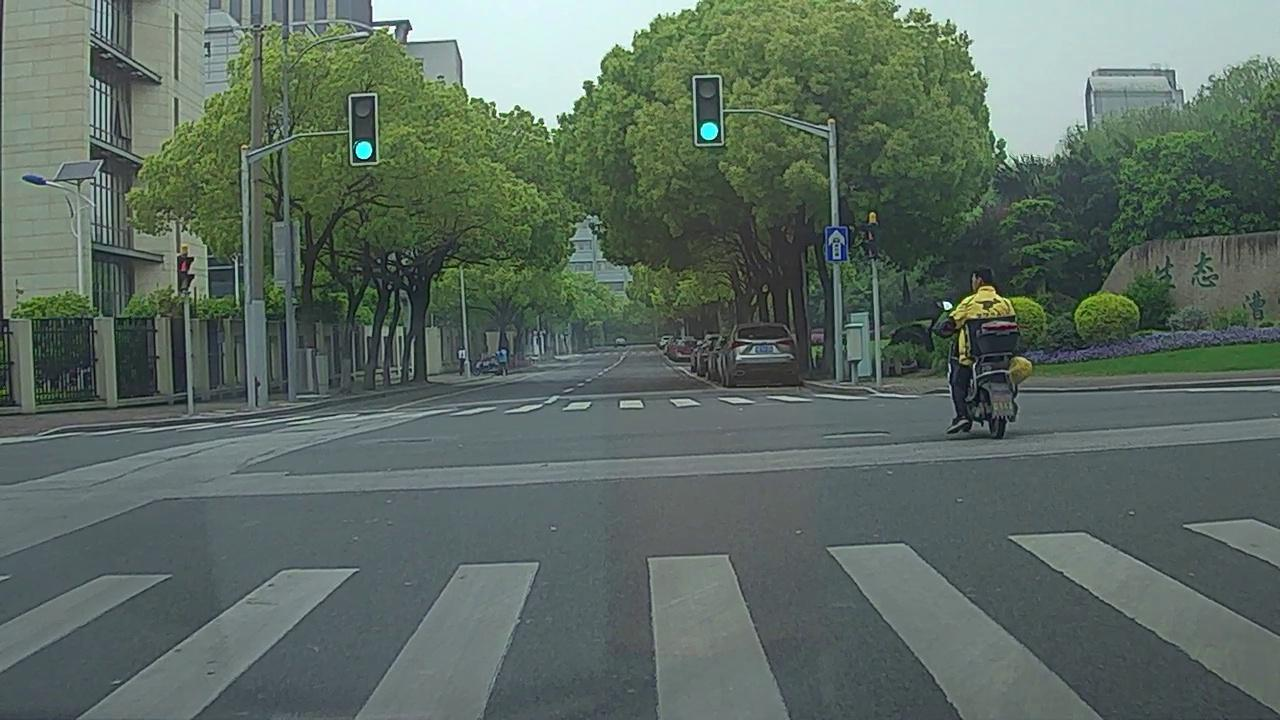traffic_light: (348, 94, 379, 163), (693, 77, 723, 146)
